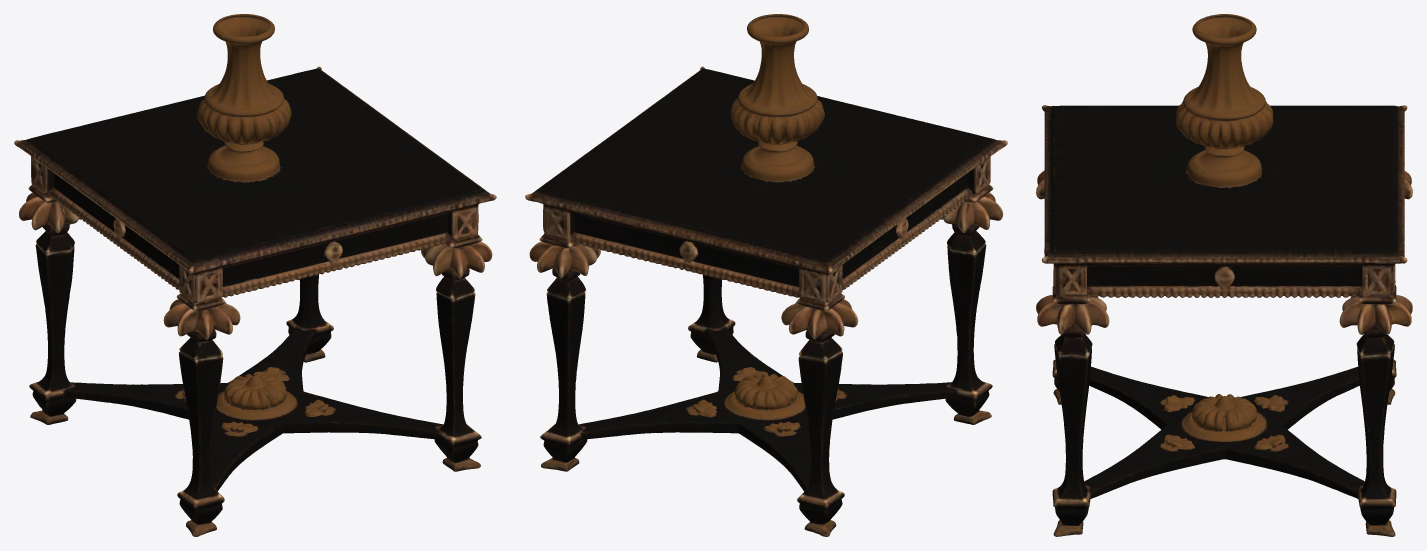
The model's file is crown.glb.
3 views of the same model, side by side, from view 1: azimuth 30°, elevation 25°; view 2: azimuth 150°, elevation 25°; view 3: azimuth 270°, elevation 25° (orthographic). The views are drawn at different scales.
Parts seen in each view (by area): view 1: world; view 2: world; view 3: world.
Boxes of the visible parts, x1=… form: world: x1=14, y1=14, x2=496, y2=536; world: x1=525, y1=14, x2=1007, y2=536; world: x1=1036, y1=14, x2=1412, y2=536.
Bounding box in the file's own units: 0.7882 × 1 × 0.7916.
Materials: 1 (1 with a texture image).
